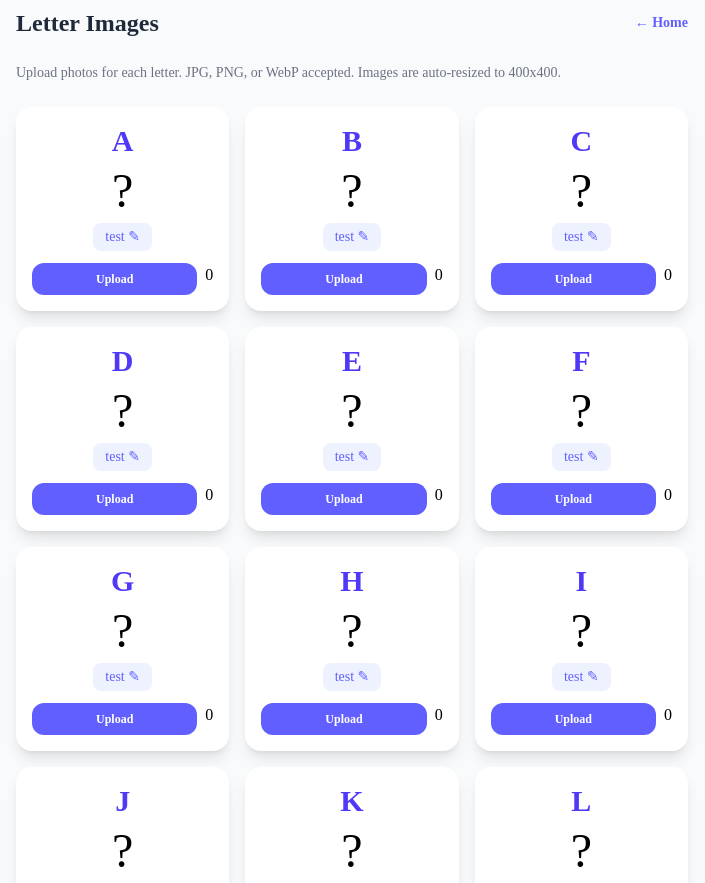
Test case: Admin › clicking word opens edit input
The width and height of the screenshot is (705, 883).
Expected: the text "A" is shown, [112, 123, 134, 159]
// Click the first word (contains ✎)
Click the 1st button "test ✎".
click(123, 237)  # box [93, 223, 152, 251]
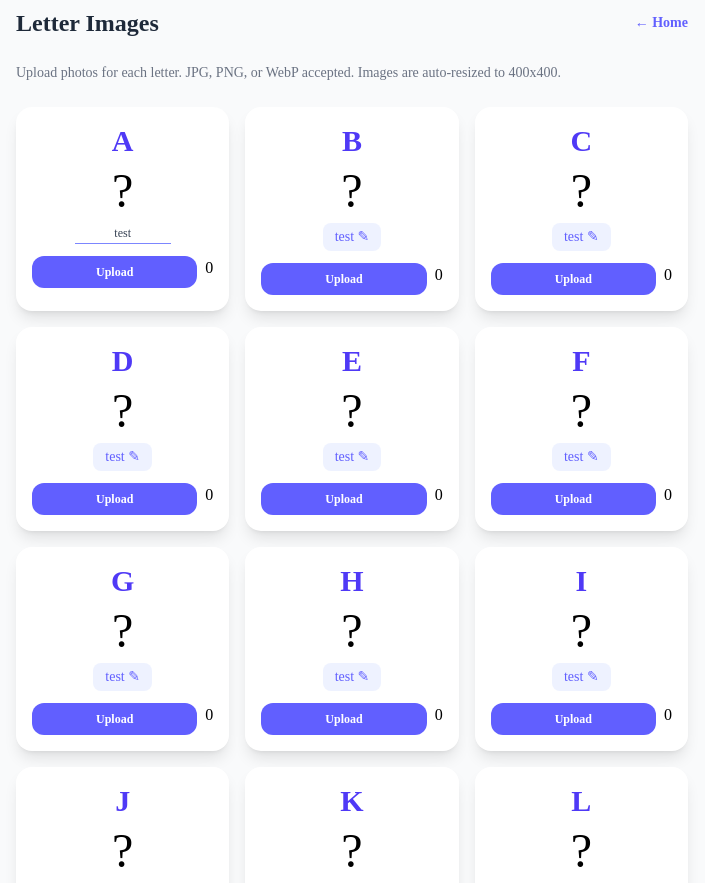
Expected: the field is shown, [75, 223, 171, 244]
